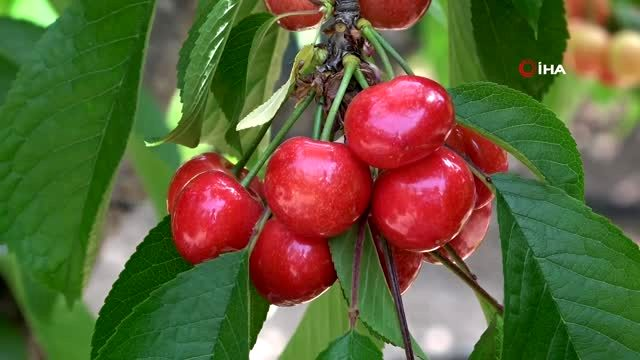Cherry: (162, 165, 269, 268), (342, 74, 458, 165), (265, 138, 370, 235)
